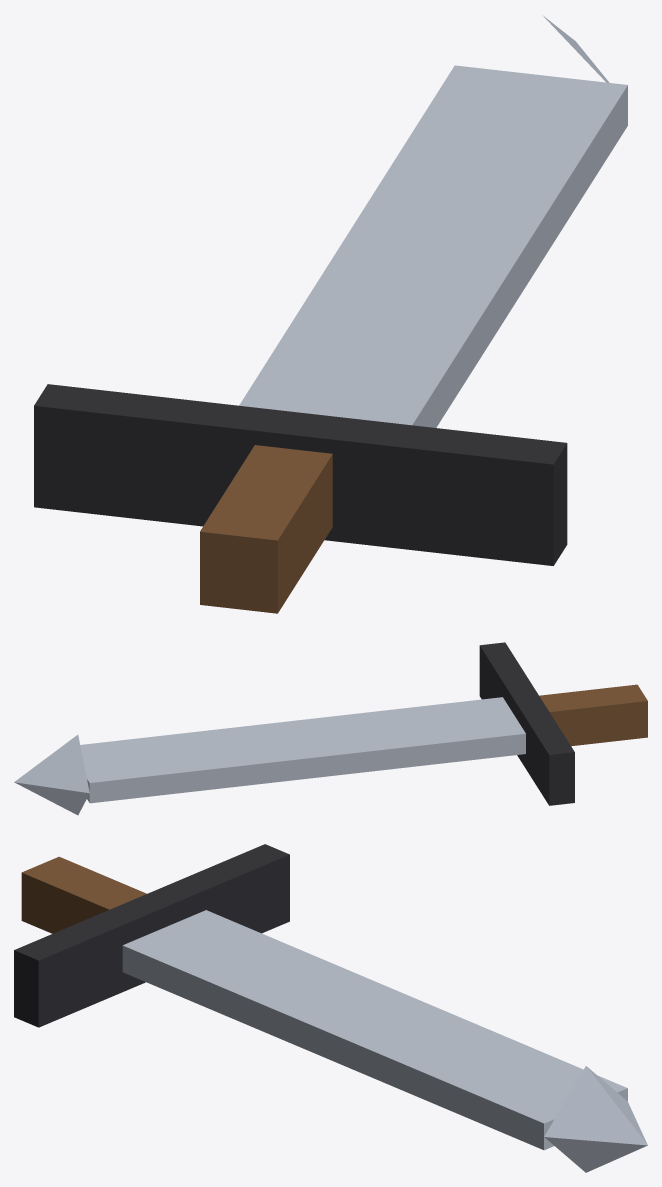
The model's file is longsword.glb.
The picture shows the model from 3 angles, top to bottom: view 1: azimuth 30°, elevation 25°; view 2: azimuth 150°, elevation 25°; view 3: azimuth 270°, elevation 25°; orthographic projection. The views are drawn at different scales.
Visible parts, largest first — view 1: longsword; view 2: longsword; view 3: longsword.
Part boxes in pixels (x1,y1,x2,y2): longsword: (34,15,627,613); longsword: (14,642,647,815); longsword: (14,844,647,1172).
Size of the model in its own units: 0.723 by 0.135 by 0.723.
